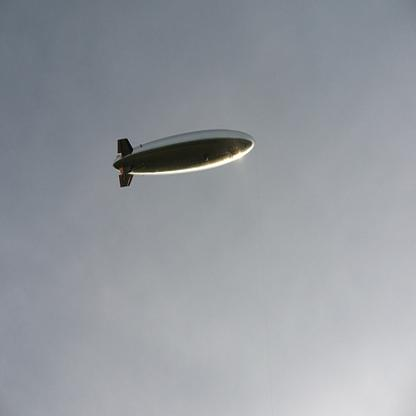Airship: (113, 129, 257, 190)
